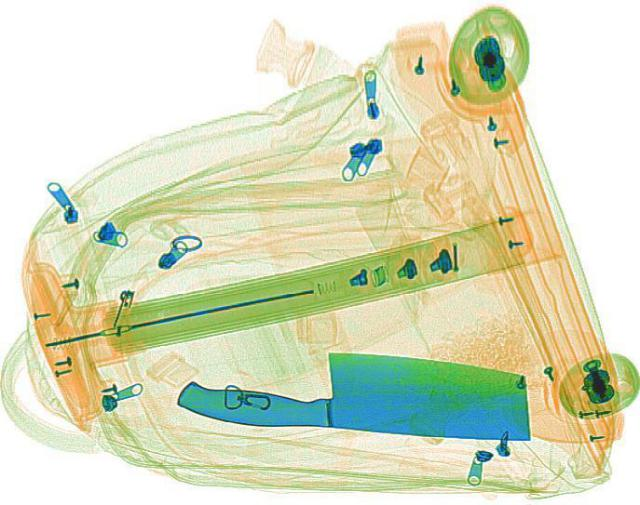Knife: (168, 331, 546, 451)
